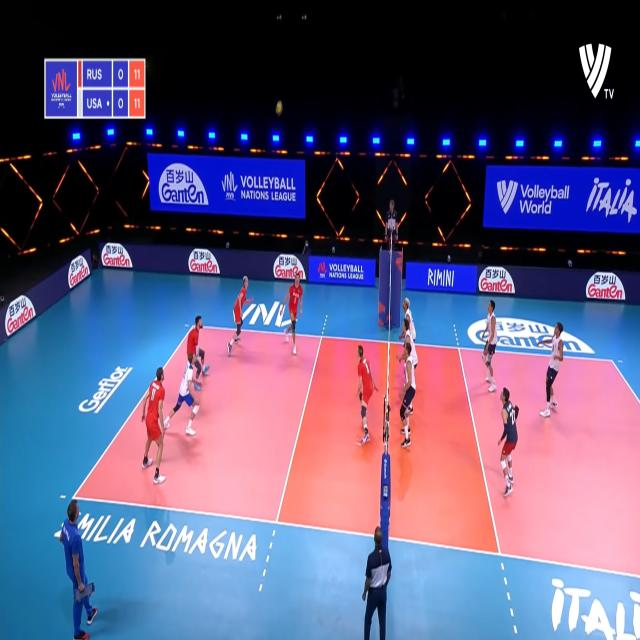player: (163, 349, 200, 439), (143, 365, 167, 494), (537, 320, 566, 422), (352, 341, 378, 450), (498, 386, 520, 496), (228, 271, 252, 354), (279, 272, 303, 351), (187, 312, 210, 392), (481, 297, 500, 393), (400, 342, 415, 454), (398, 316, 419, 394), (402, 295, 420, 352)
